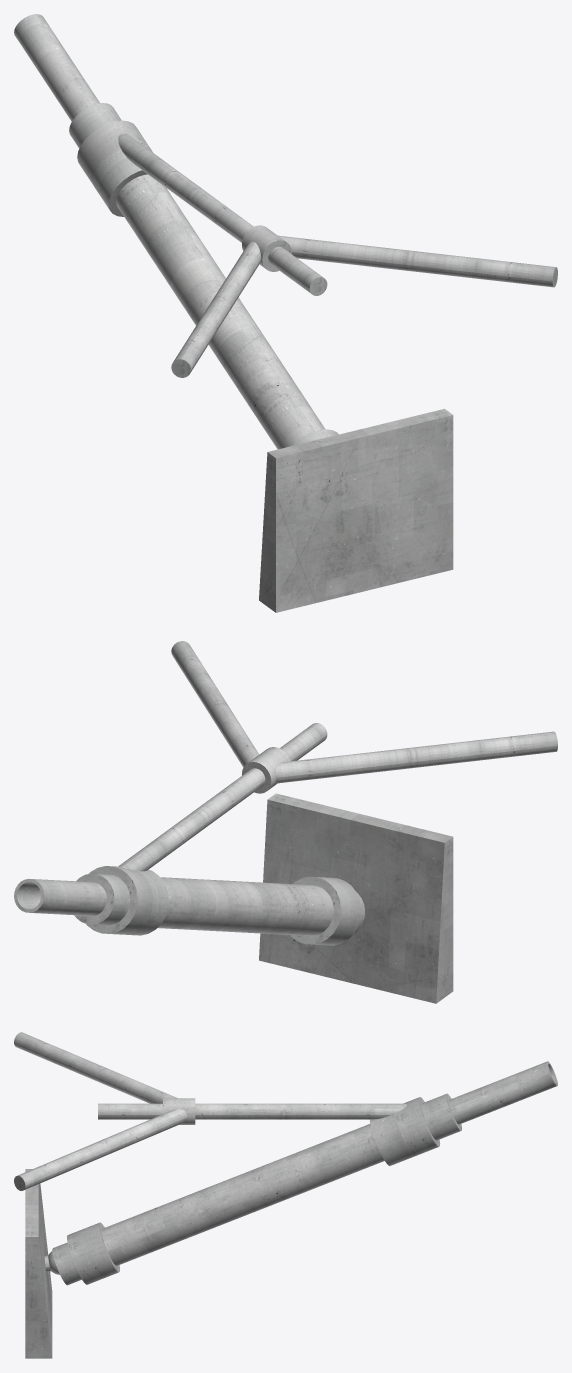
File: MortarUnderMax.dae
3 renders of one model, top to bottom at view 1: azimuth 30°, elevation 25°; view 2: azimuth 150°, elevation 25°; view 3: azimuth 270°, elevation 25°, orthographic. The views are drawn at different scales.
Visible parts, largest first — view 1: group_1, group_2 (×2), group_8, group_6, group_4, group_7, group_9; view 2: group_1, group_2 (×3), group_7, group_6, group_4, group_8, group_3, group_9; view 3: group_2 (×2), group_6, group_1, group_8, group_4, group_7, group_3, group_9.
Boxes of the visible parts, bbox=[...] form: group_1: bbox=[259, 408, 453, 612]; group_2 (×2): bbox=[14, 14, 324, 449]; group_8: bbox=[278, 235, 557, 287]; group_6: bbox=[118, 133, 327, 295]; group_4: bbox=[77, 120, 152, 216]; group_7: bbox=[171, 241, 261, 377]; group_9: bbox=[242, 225, 291, 271]; group_1: bbox=[259, 793, 453, 1003]; group_2 (×3): bbox=[14, 873, 364, 936]; group_7: bbox=[276, 731, 557, 783]; group_6: bbox=[118, 723, 327, 871]; group_4: bbox=[86, 866, 168, 935]; group_8: bbox=[171, 641, 258, 767]; group_3: bbox=[290, 876, 361, 945]; group_9: bbox=[242, 747, 290, 793]; group_2 (×2): bbox=[52, 1061, 557, 1285]; group_6: bbox=[98, 1103, 406, 1119]; group_1: bbox=[25, 1169, 52, 1358]; group_8: bbox=[14, 1109, 187, 1190]; group_4: bbox=[370, 1097, 440, 1165]; group_7: bbox=[14, 1032, 177, 1103]; group_3: bbox=[67, 1222, 119, 1284]; group_9: bbox=[163, 1098, 195, 1124].
Size of the model in its own units: 25.75 by 39.92 by 21.23.
Materials: 1 (1 with a texture image).
